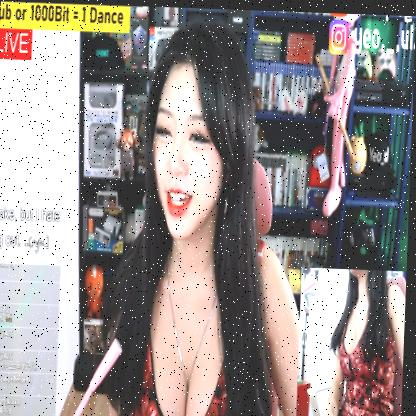streamer: (97, 12, 309, 416), (320, 265, 409, 416)
